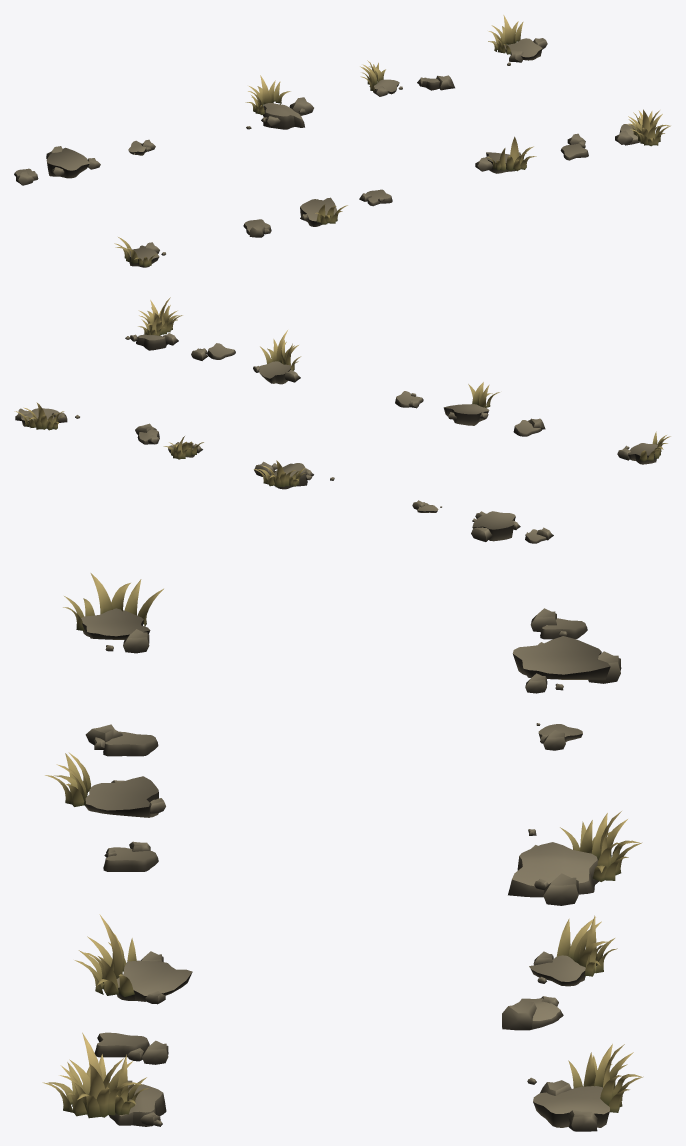
The model's file is ROCK_PATH.fbx.
3 views of the same model, one above another, from view 1: azimuth 30°, elevation 25°; view 2: azimuth 150°, elevation 25°; view 3: azimuth 270°, elevation 25° (orthographic). The views are drawn at different scales.
Parts seen in each view (by area): view 1: ROCK_PATH; view 2: ROCK_PATH; view 3: ROCK_PATH.
Boxes of the visible parts, bbox=[...] form: ROCK_PATH: bbox=[14, 15, 670, 267]; ROCK_PATH: bbox=[14, 297, 670, 543]; ROCK_PATH: bbox=[42, 573, 643, 1131].
Bounding box in the file's own units: 6.29 × 0.4646 × 3.07.
